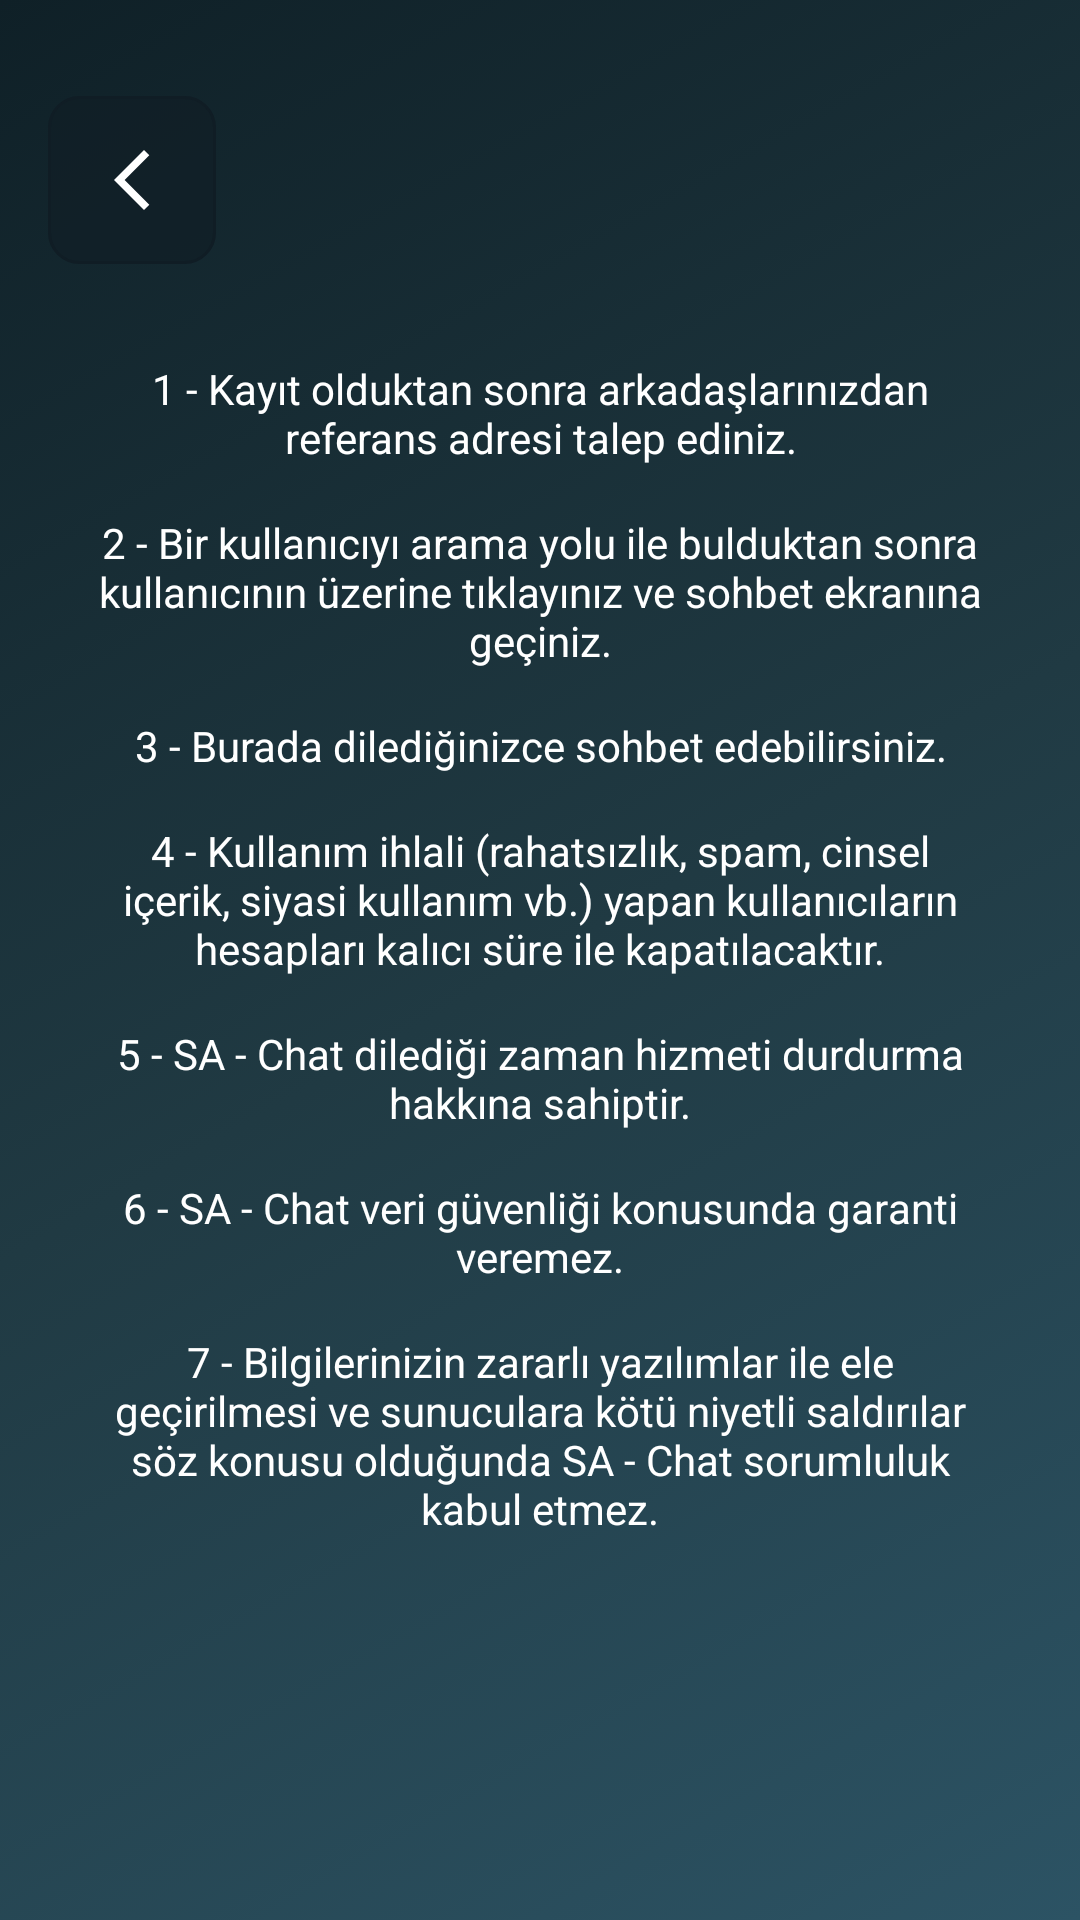

Icon bounding boxes for this 1080w x 1920h phone screenshot, format {"left": x1, "top": y1, "right": x2, "bottom": y2}:
back: {"left": 114, "top": 150, "right": 149, "bottom": 210}
